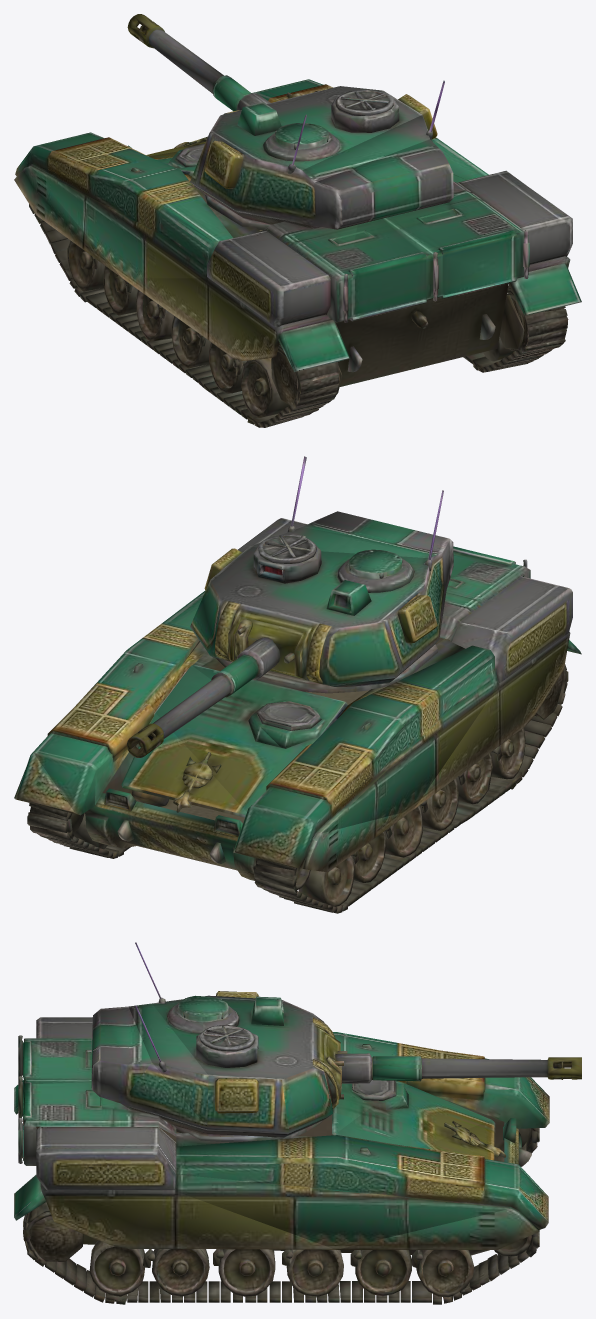
File: mangrove_skiff.glb
The picture shows the model from 3 angles, top to bottom: view 1: azimuth 30°, elevation 25°; view 2: azimuth 150°, elevation 25°; view 3: azimuth 270°, elevation 25°; orthographic projection. The views are drawn at different scales.
Parts seen in each view (by area): view 1: Body, Trim, Turret, Barrel; view 2: Body, Trim, Turret, Barrel; view 3: Body, Trim, Turret, Barrel.
Part boxes in pixels (x1,y1,x2,y2): Body: (14,27,581,427); Trim: (29,79,581,371); Turret: (209,75,432,170); Barrel: (127,14,223,92); Body: (14,456,581,913); Trim: (15,527,581,852); Turret: (190,534,428,695); Barrel: (126,675,231,753); Body: (17,942,581,1304); Trim: (14,1003,549,1249); Turret: (152,992,421,1131); Barrel: (422,1057,581,1076).
Bounding box in the file's own units: 3.96 × 3.68 × 7.
2 materials, 2 textured.
